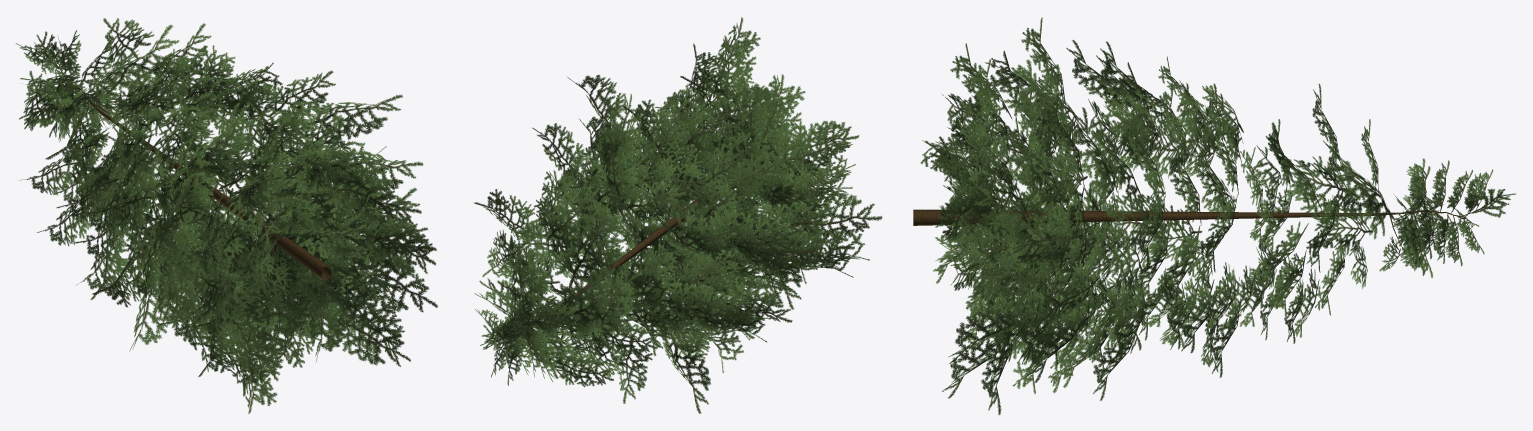
File: pine_lod2.glb
3 renders of one model, left to right at view 1: azimuth 30°, elevation 25°; view 2: azimuth 150°, elevation 25°; view 3: azimuth 270°, elevation 25°, orthographic. The views are drawn at different scales.
Visible parts, largest first — view 1: Christmas tree_6_LOD2; view 2: Christmas tree_6_LOD2; view 3: Christmas tree_6_LOD2.
Boxes of the visible parts, x1,y1,x2,y2 form: Christmas tree_6_LOD2: (15,18,437,413); Christmas tree_6_LOD2: (474,17,882,413); Christmas tree_6_LOD2: (913,17,1516,414).
Bounding box in the file's own units: 4.52 × 4.39 × 6.62.
2 materials, 2 textured.
